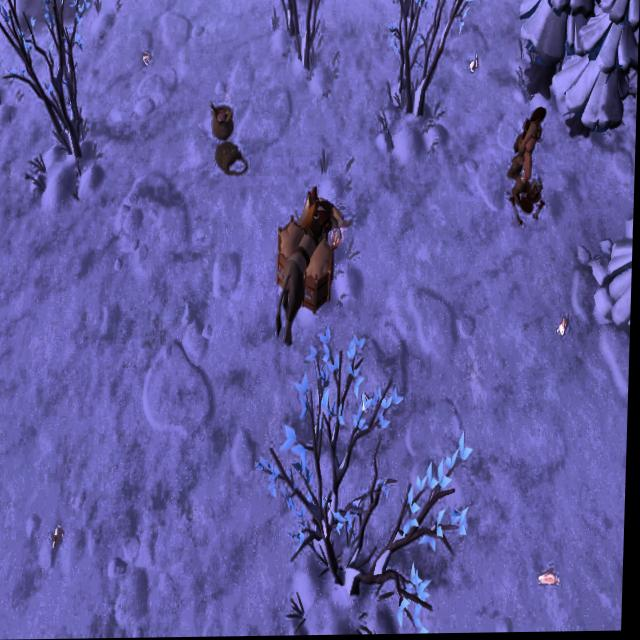enemy_factionKeeper: (507, 104, 548, 207)
